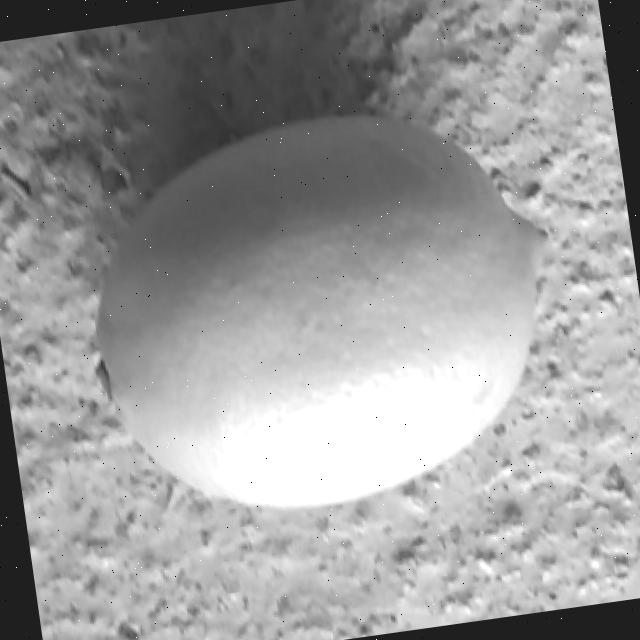Lemon: (61, 85, 582, 538)
